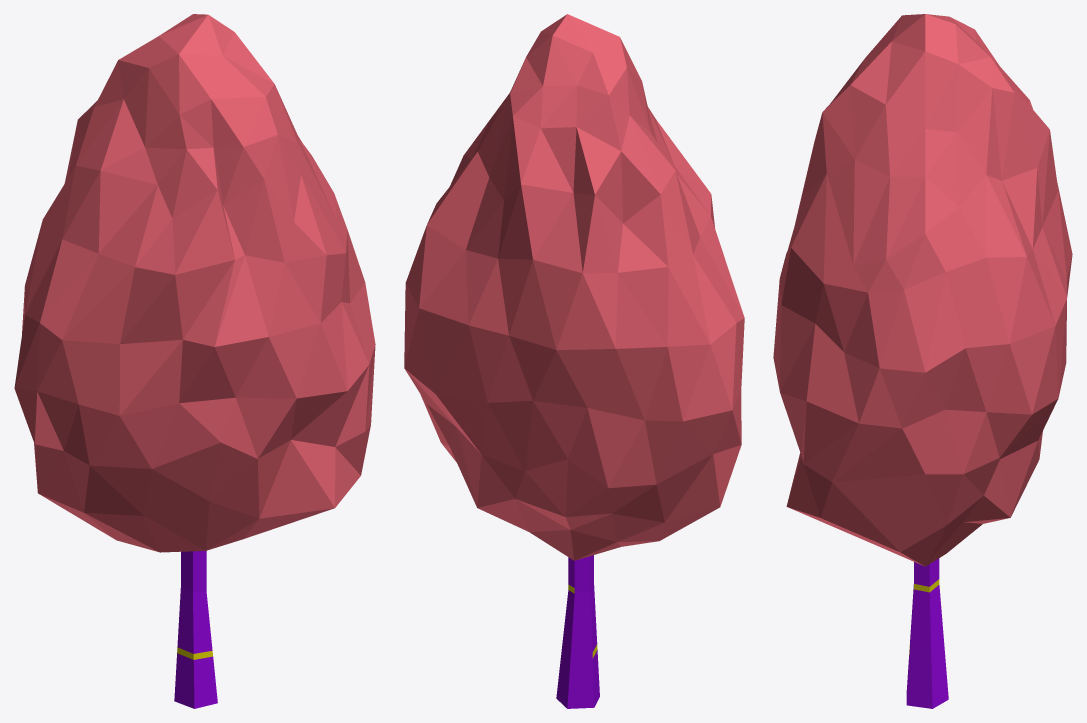
Rendered from tree-birch.fbx.
3 renders of one model, left to right at view 1: azimuth 30°, elevation 25°; view 2: azimuth 150°, elevation 25°; view 3: azimuth 270°, elevation 25°, orthographic.
Parts seen in each view (by area): view 1: tree-birch; view 2: tree-birch; view 3: tree-birch.
Part boxes in pixels (left/top/right/bottom): tree-birch: left=14, top=14, right=375, bottom=708; tree-birch: left=404, top=14, right=744, bottom=708; tree-birch: left=773, top=14, right=1072, bottom=708.
Bounding box in the file's own units: 3.44 × 6.94 × 2.72.
